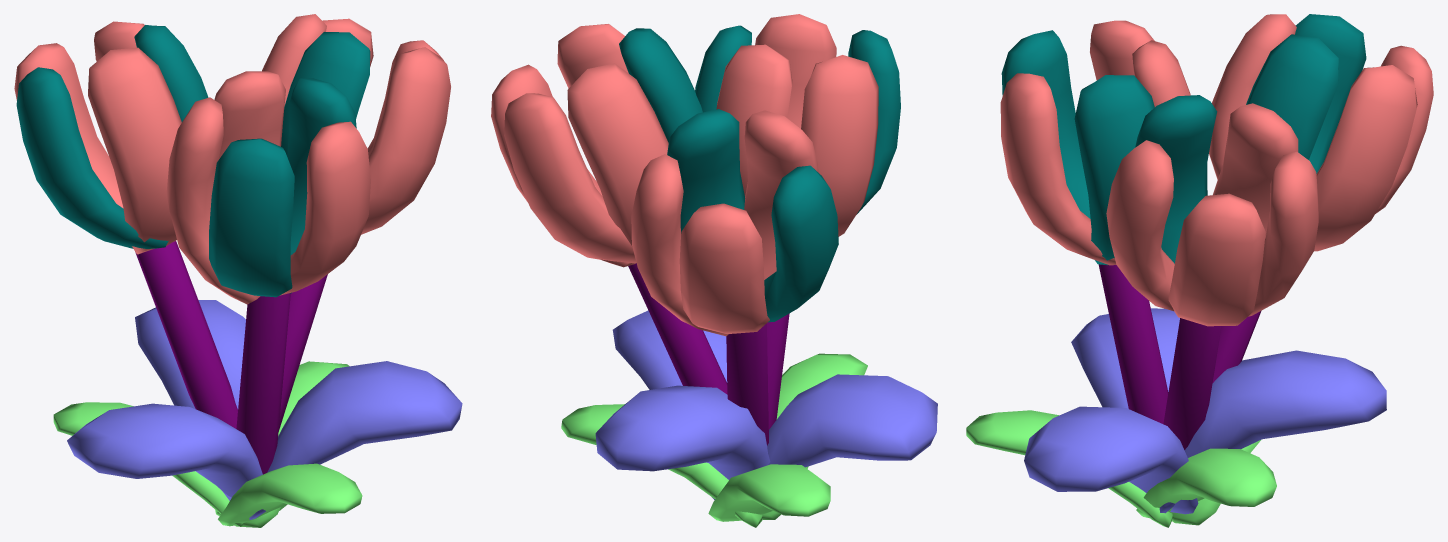
File: Flower03.fbx
The picture shows the model from 3 angles, left to right: view 1: azimuth 30°, elevation 25°; view 2: azimuth 150°, elevation 25°; view 3: azimuth 270°, elevation 25°; orthographic projection. The views are drawn at different scales.
Visible parts, largest first — view 1: Low_Flower03; view 2: Low_Flower03; view 3: Low_Flower03.
Part boxes in pixels (left/top/right/bottom): Low_Flower03: left=14, top=14, right=462, bottom=527; Low_Flower03: left=491, top=14, right=937, bottom=527; Low_Flower03: left=966, top=14, right=1433, bottom=527.
Bounding box in the file's own units: 673 × 760 × 680.
